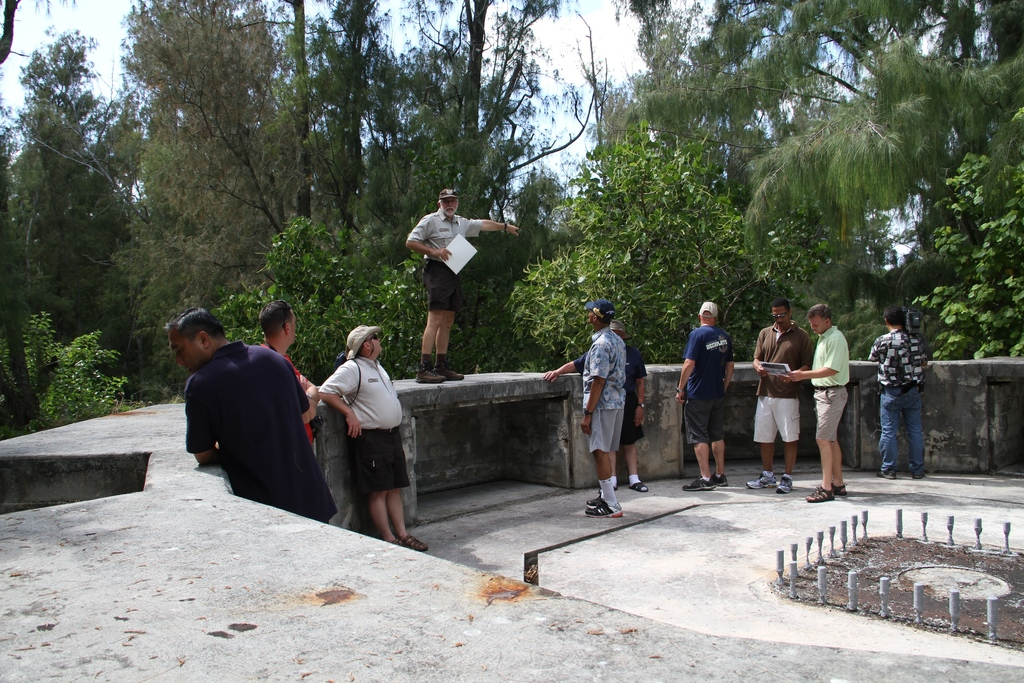Tree: (153, 5, 1023, 386), (5, 50, 167, 383)
